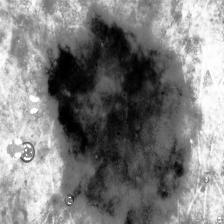Benign Marking or Mole: (44, 7, 193, 224)
